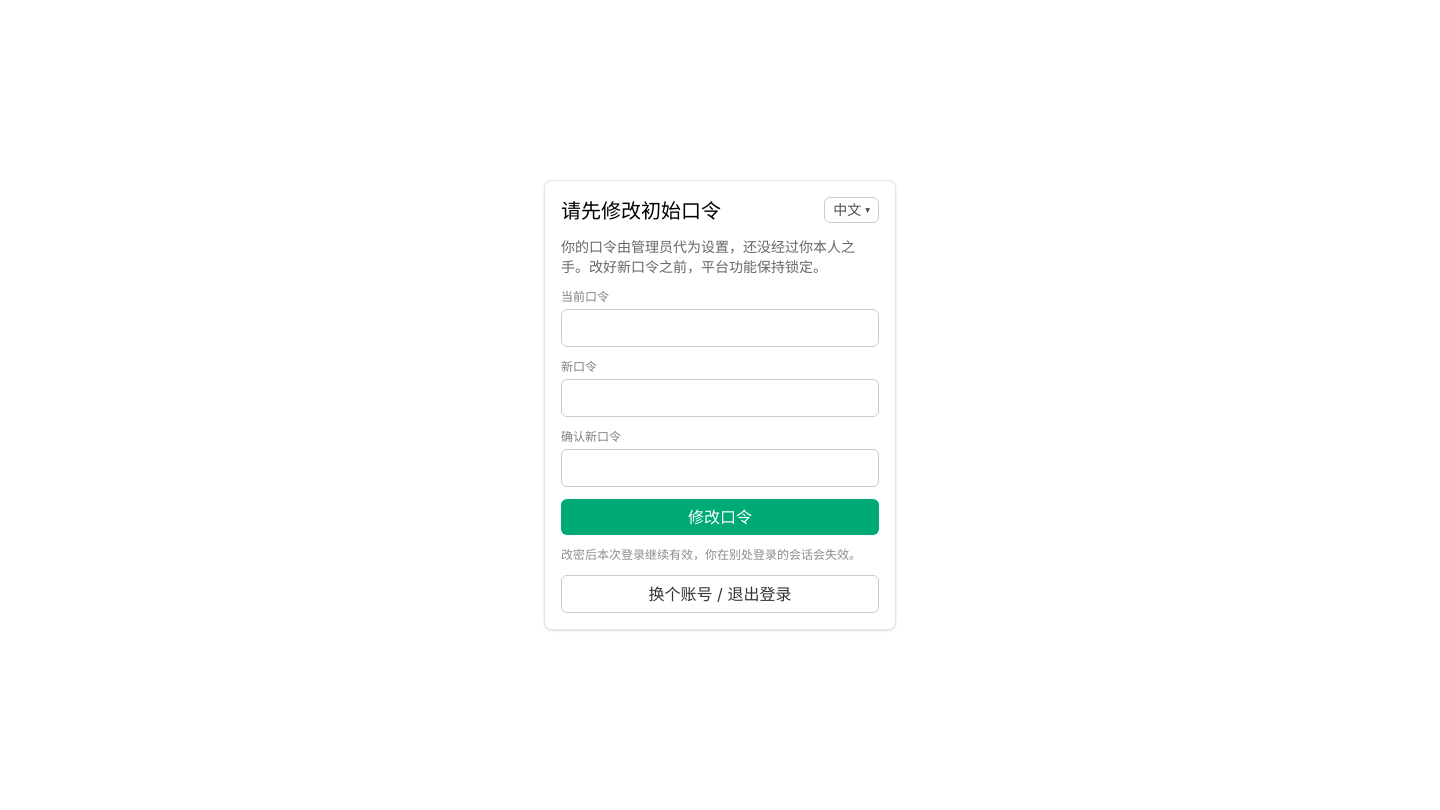
Scenario: #255 改密表单与成功链路 › 成功链路：POST /api/me/password 三字段齐全 + Content-Type application/json ⇒ 先 GET /api/me 才进正常界面
Type "admin-set" into the password field with id "currentPassword" at (720, 328), box [561,309,879,347]
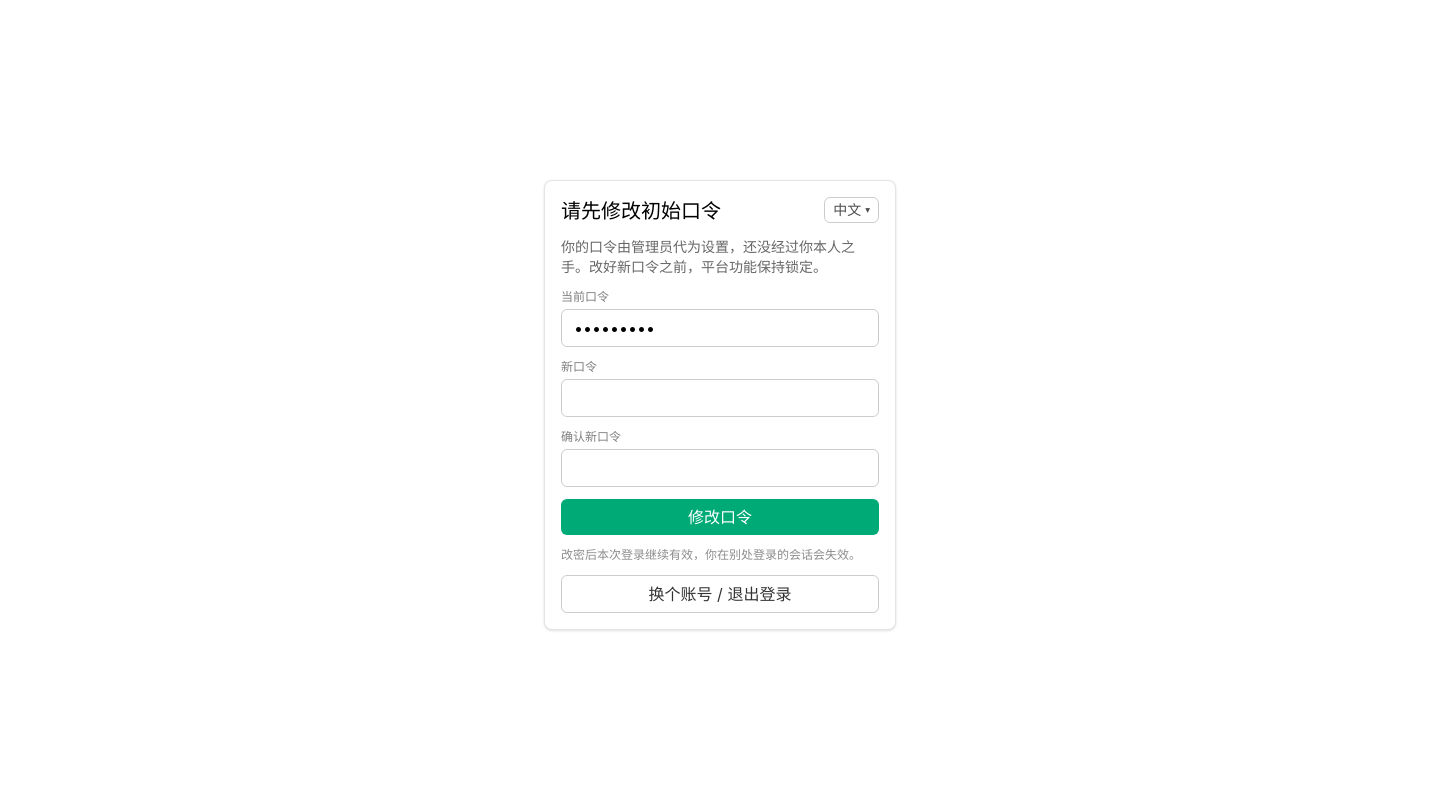
Type "mine-chosen" into the password field with id "newPassword" at (720, 398), box [561,379,879,417]
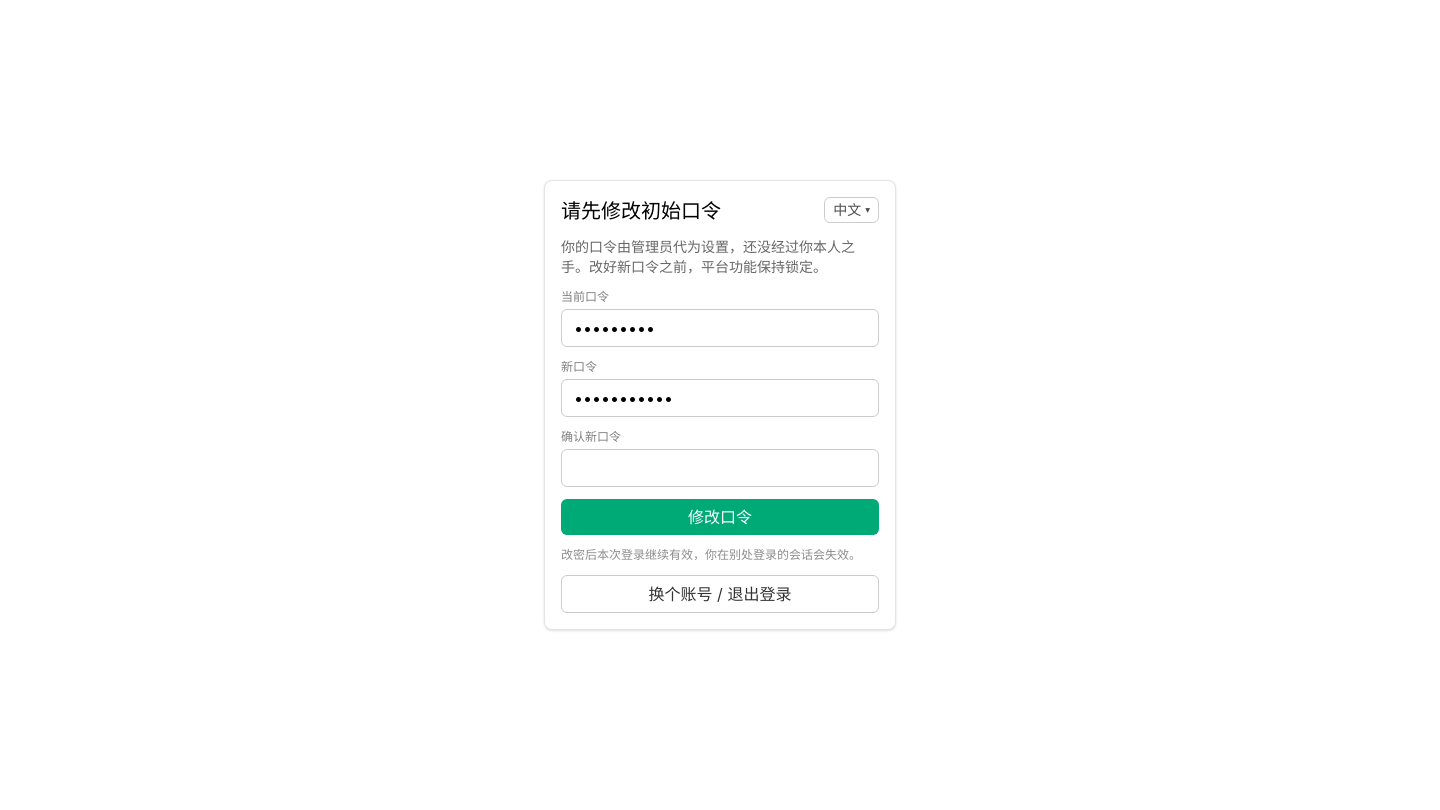
Type "mine-chosen" into the password field with id "confirmPassword" at (720, 468), box [561,449,879,487]
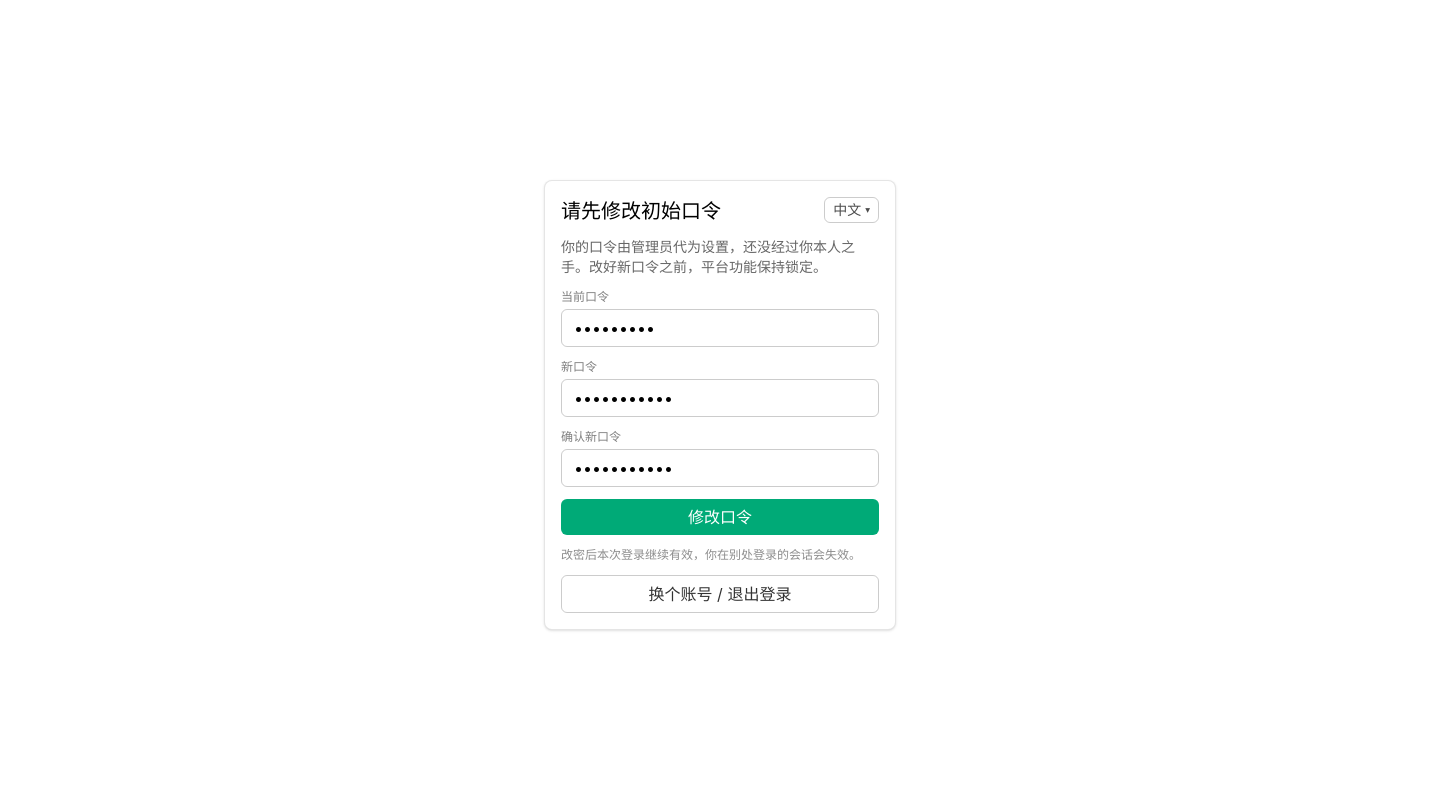
Submit the form, box [561,289,879,535]
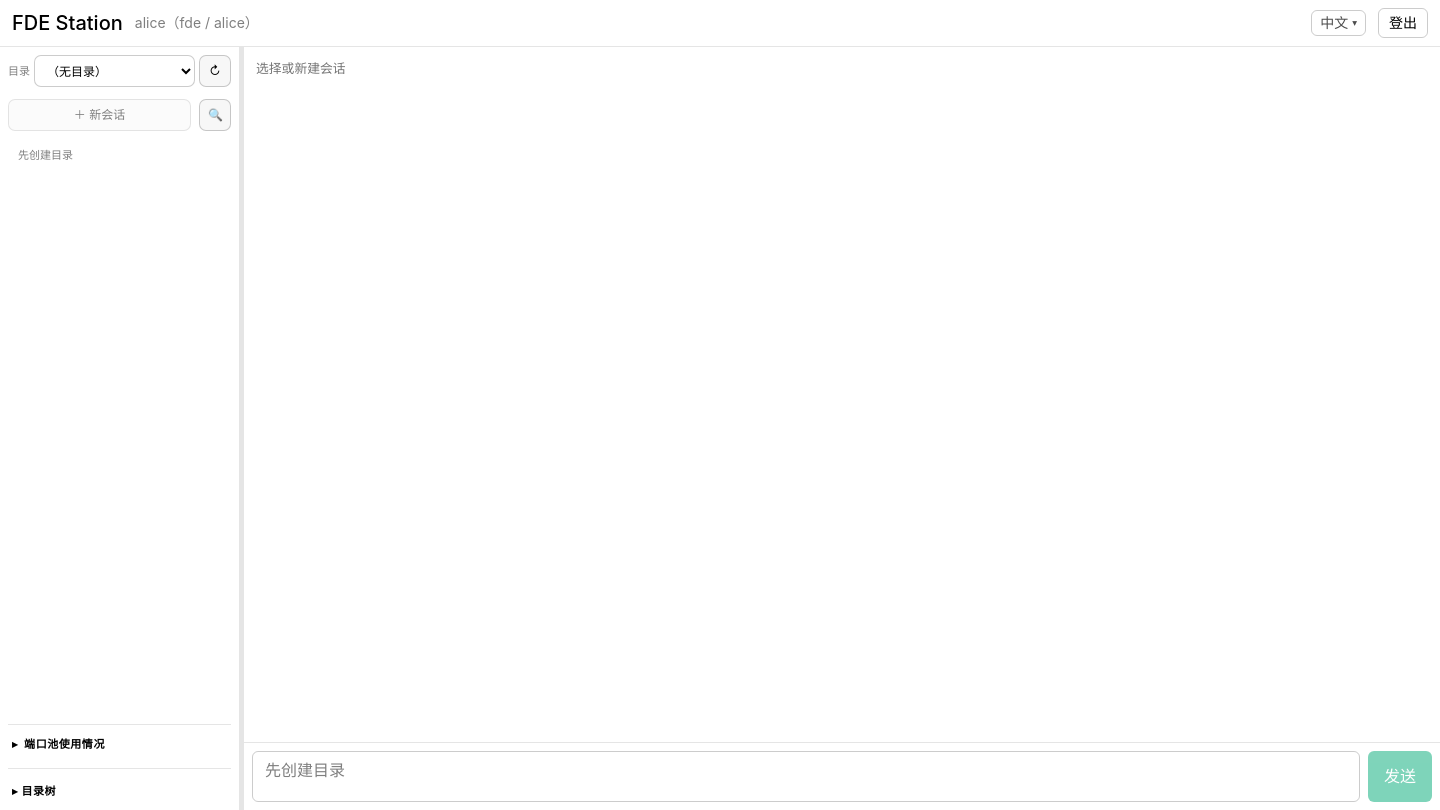
Check: the button with test id "preview-ports-toggle" is shown, box [8,733,231,756]
